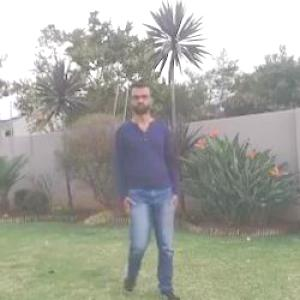follow: (120, 88, 176, 280)
